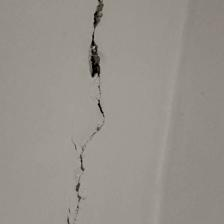Medium: (65, 1, 122, 213)
